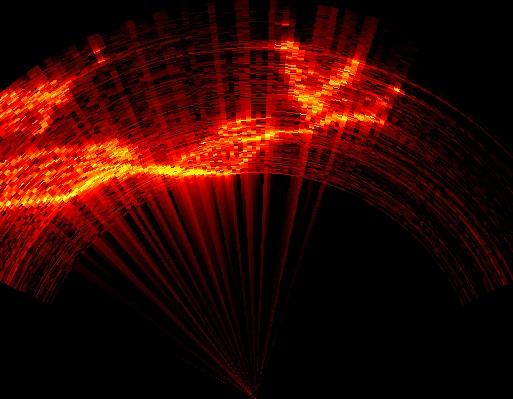shipwreck: (0, 117, 295, 209), (280, 43, 389, 133), (0, 81, 70, 137)
